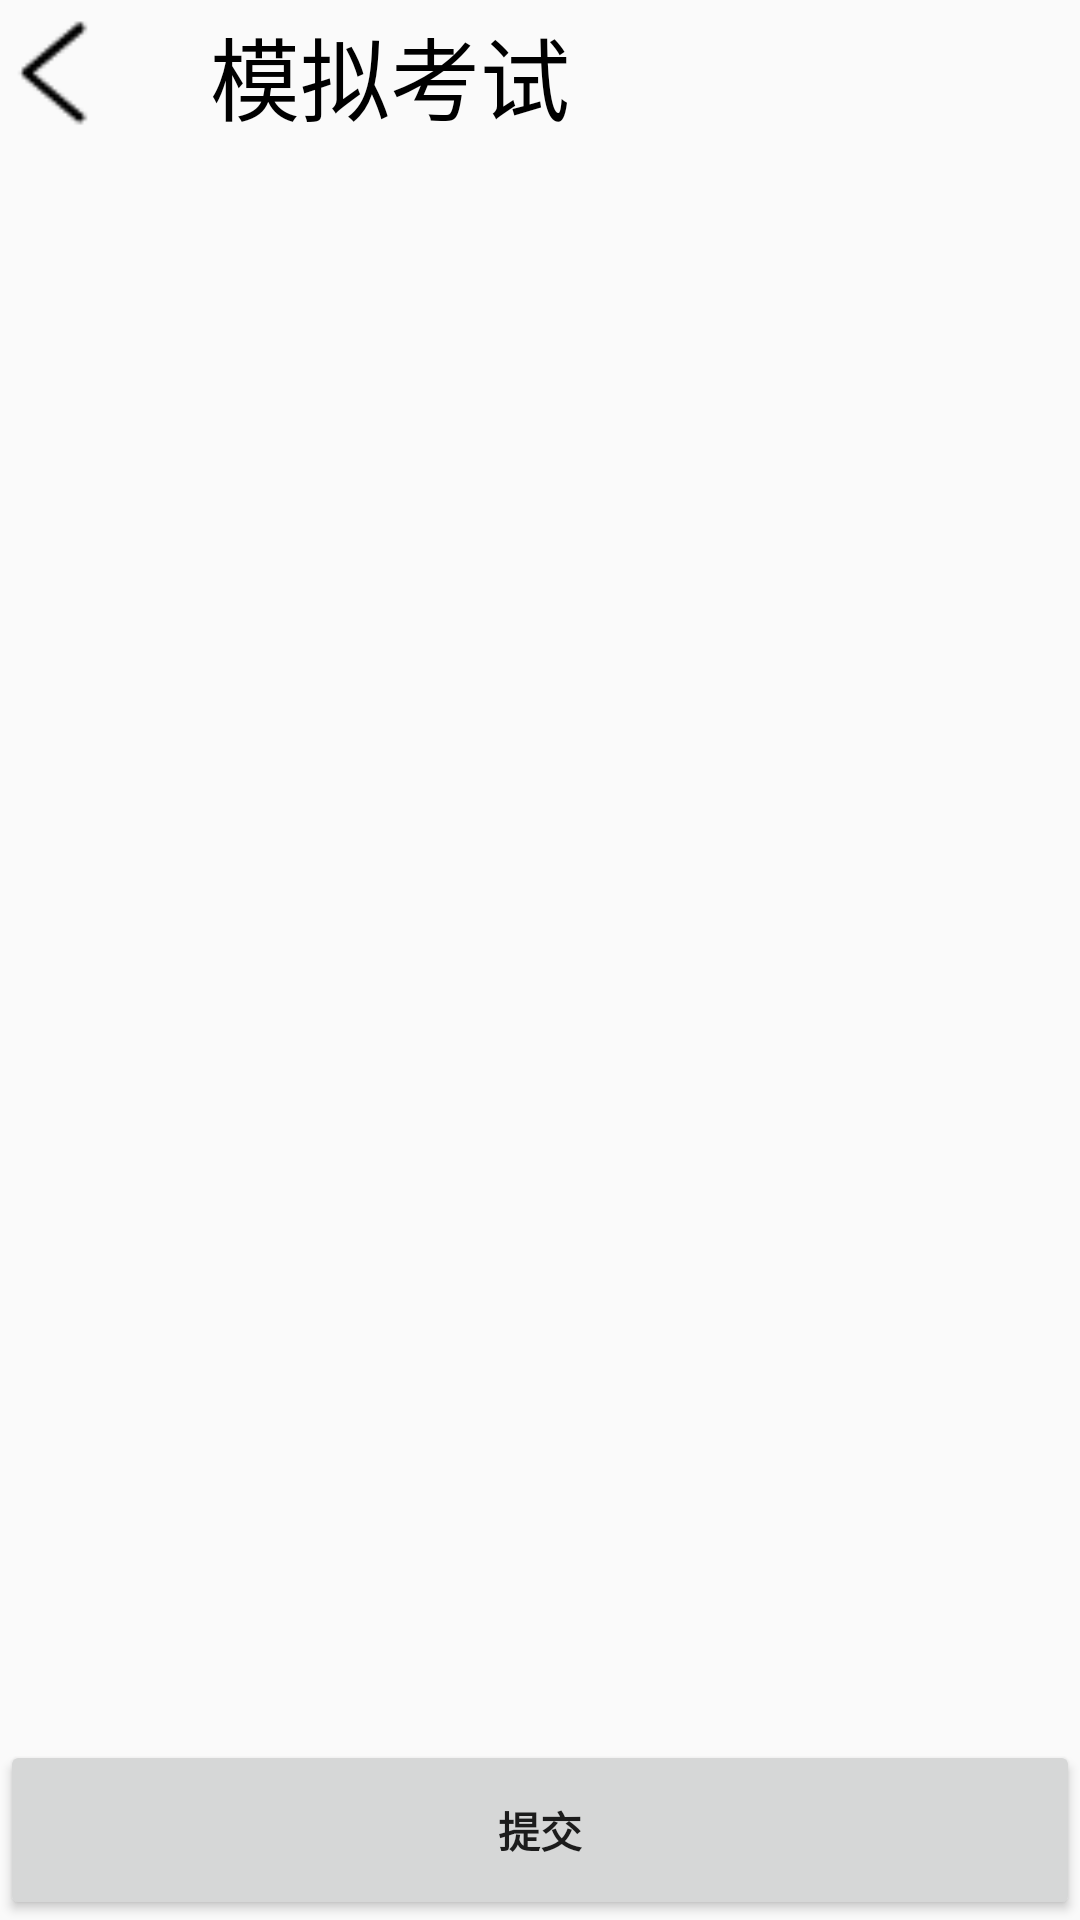

Named icons in this screenshot (1080px x 1920px) and their bounding boxes, (x1, y1, x2, y2):
fanhui: (20, 21, 87, 125)
